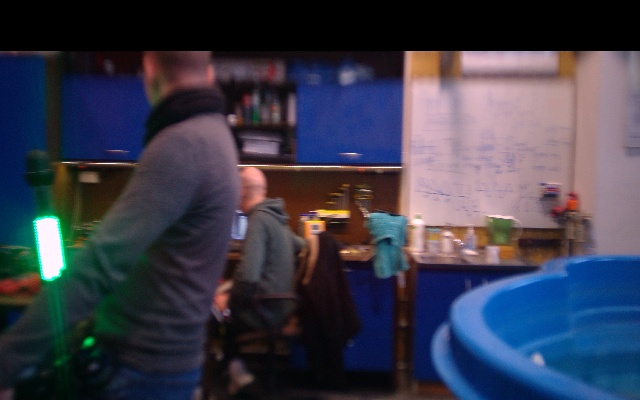green: (31, 216, 67, 293)
